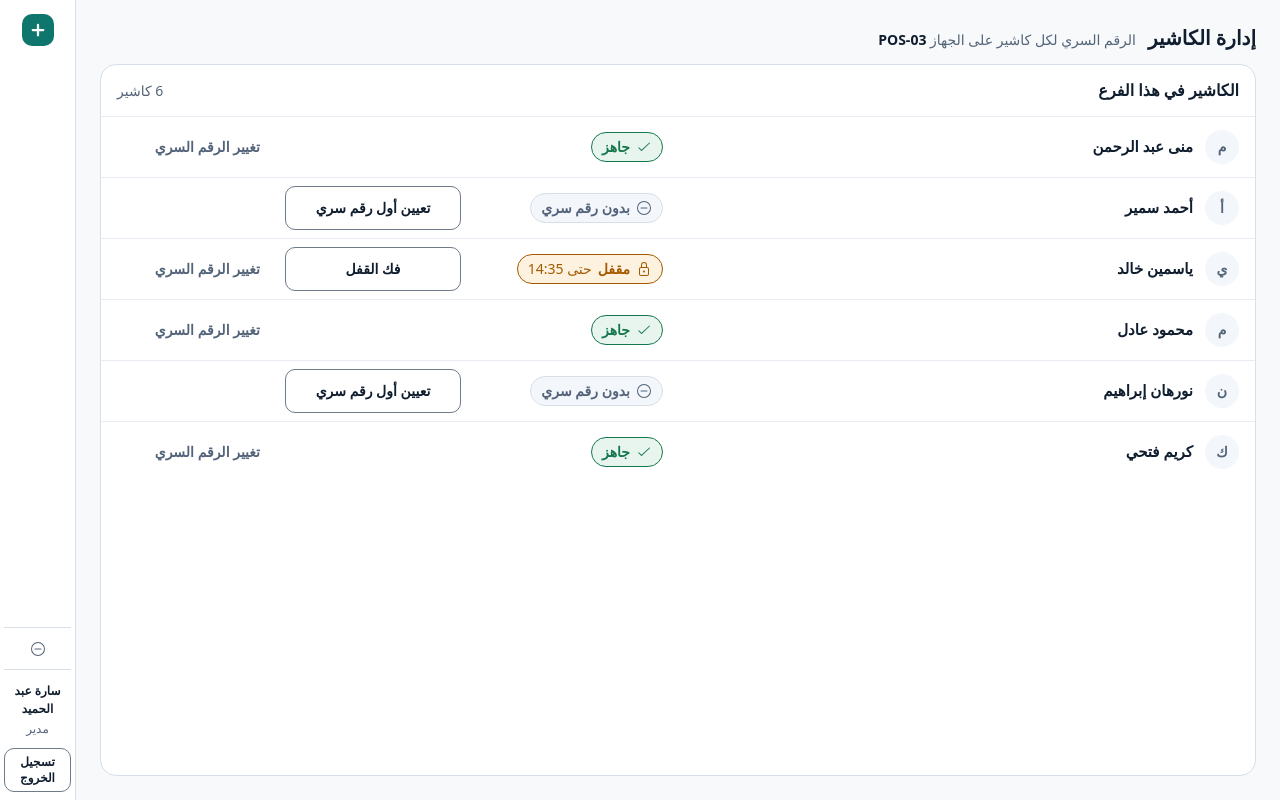
Test: RT-424 CashiersProof — the page › renders the real screen inside the v5 frame as a manager
Expected: the number of list items with test id "cashier-row" is 6, left=101, top=116, right=1255, bottom=178; left=101, top=178, right=1255, bottom=238; left=101, top=238, right=1255, bottom=300; left=101, top=300, right=1255, bottom=360; left=101, top=360, right=1255, bottom=422; left=101, top=422, right=1255, bottom=482
Click the button "فك القفل".
click(373, 268)  # box left=285, top=246, right=461, bottom=290
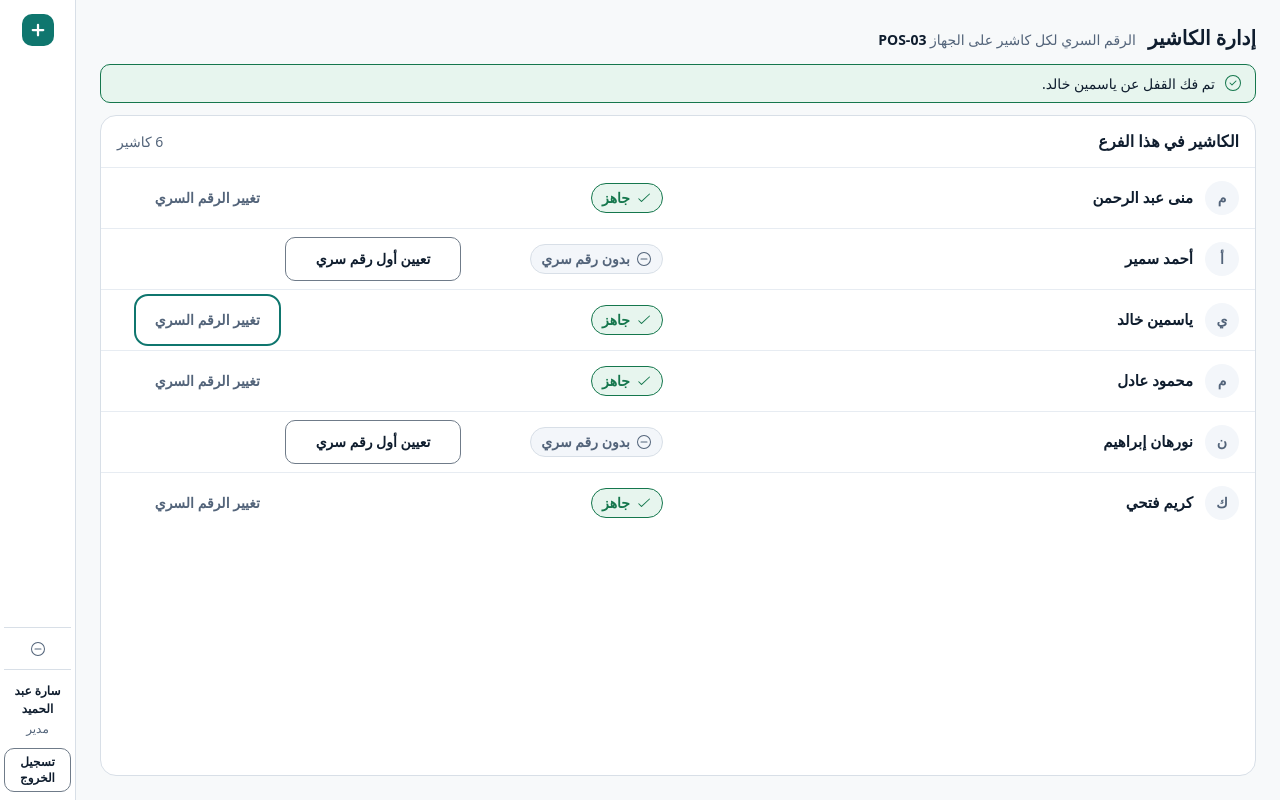
Expected: the element with test id "action-success" shows "تم فك القفل عن", left=1120, top=74, right=1215, bottom=92
